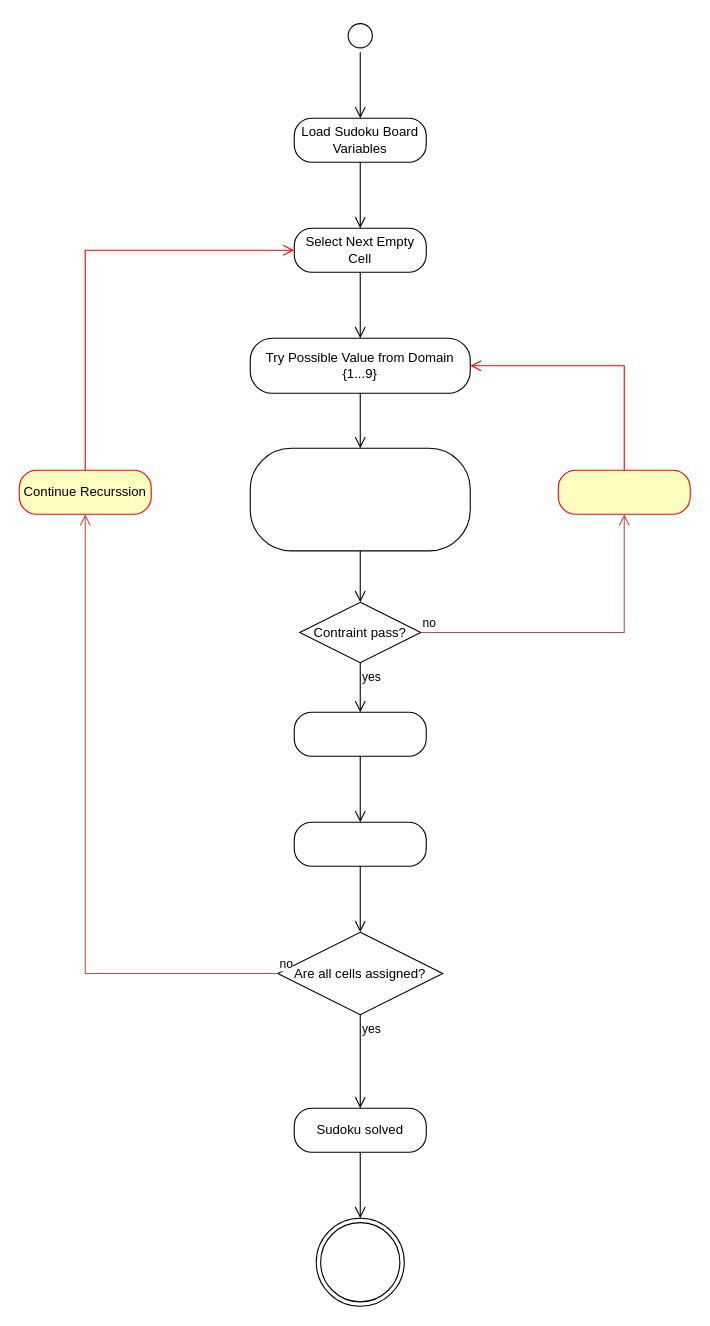
The diagram is 710 pixels wide and 1326 high, and some of its shapes have lost their labels. Here are the shapes that lost their labels. From the top down, the centre of each, then its label:
At (359,499): "Check Constraints Row constraint Column constraint Box constraint".
At (623,491): "Reject Value".
At (359,733): "Continue to next empty cell".
At (359,843): "Select another cell".
